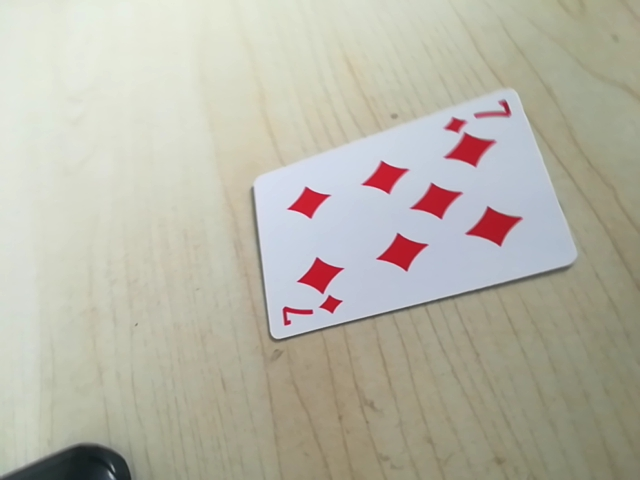fk 7: (272, 297, 346, 334), (437, 101, 517, 134)
